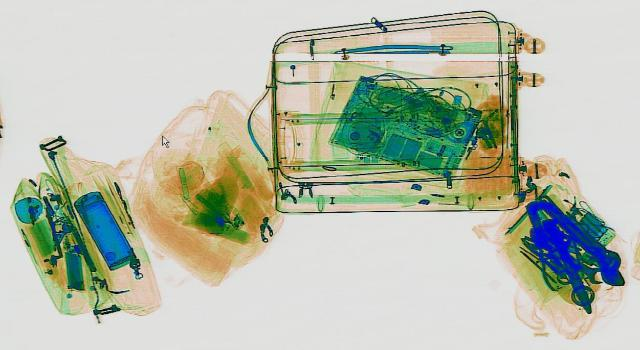Wrench: (525, 191, 639, 284)
